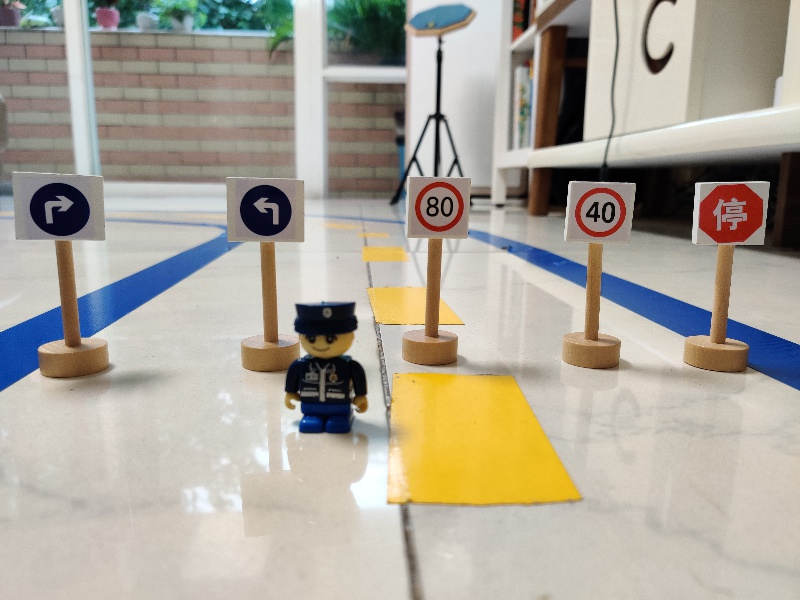limit_40: (564, 179, 637, 245)
limit_80: (403, 173, 474, 240)
person: (281, 294, 371, 440)
stop: (691, 179, 768, 247)
turn_left: (221, 173, 310, 244)
turn_right: (10, 169, 110, 242)
